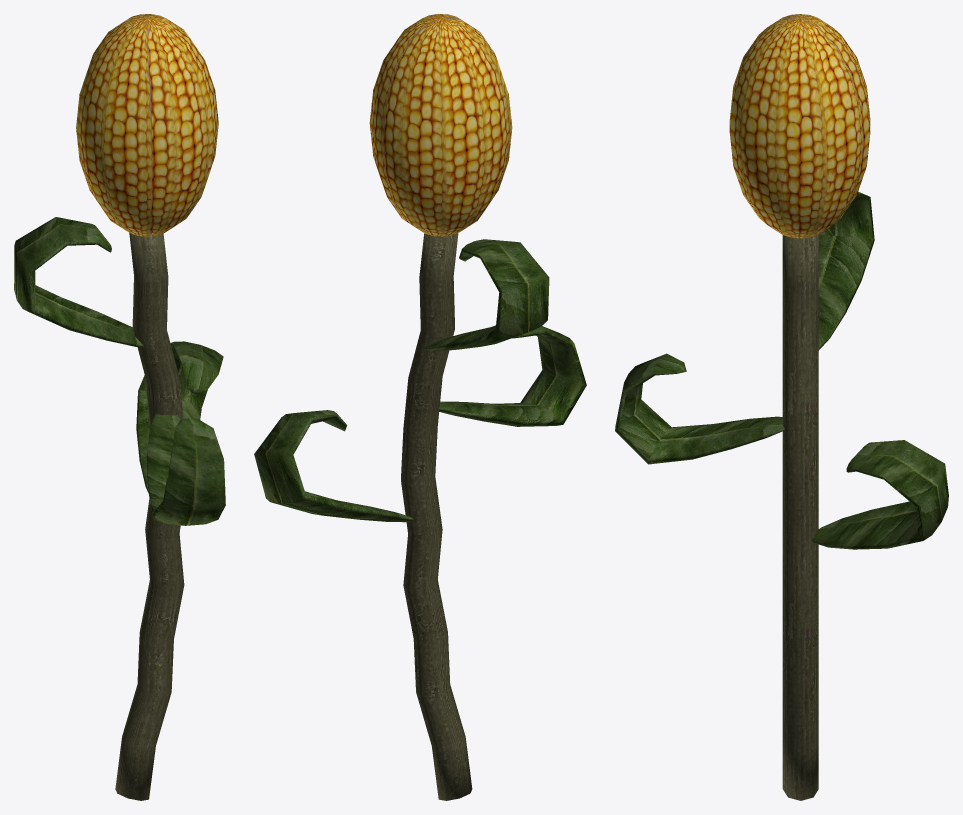
The model's file is cornStalk.fbx.
The picture shows the model from 3 angles, left to right: view 1: azimuth 30°, elevation 25°; view 2: azimuth 150°, elevation 25°; view 3: azimuth 270°, elevation 25°; orthographic projection.
Visible parts, largest first — view 1: polySurface83; view 2: polySurface83; view 3: polySurface83.
Part boxes in pixels (box(x1,y1,x2,y2)): polySurface83: box(14, 14, 225, 800); polySurface83: box(254, 14, 586, 800); polySurface83: box(615, 14, 948, 800).
Size of the model in its own units: 1.78 by 5.49 by 2.12.
3 materials, 3 textured.
